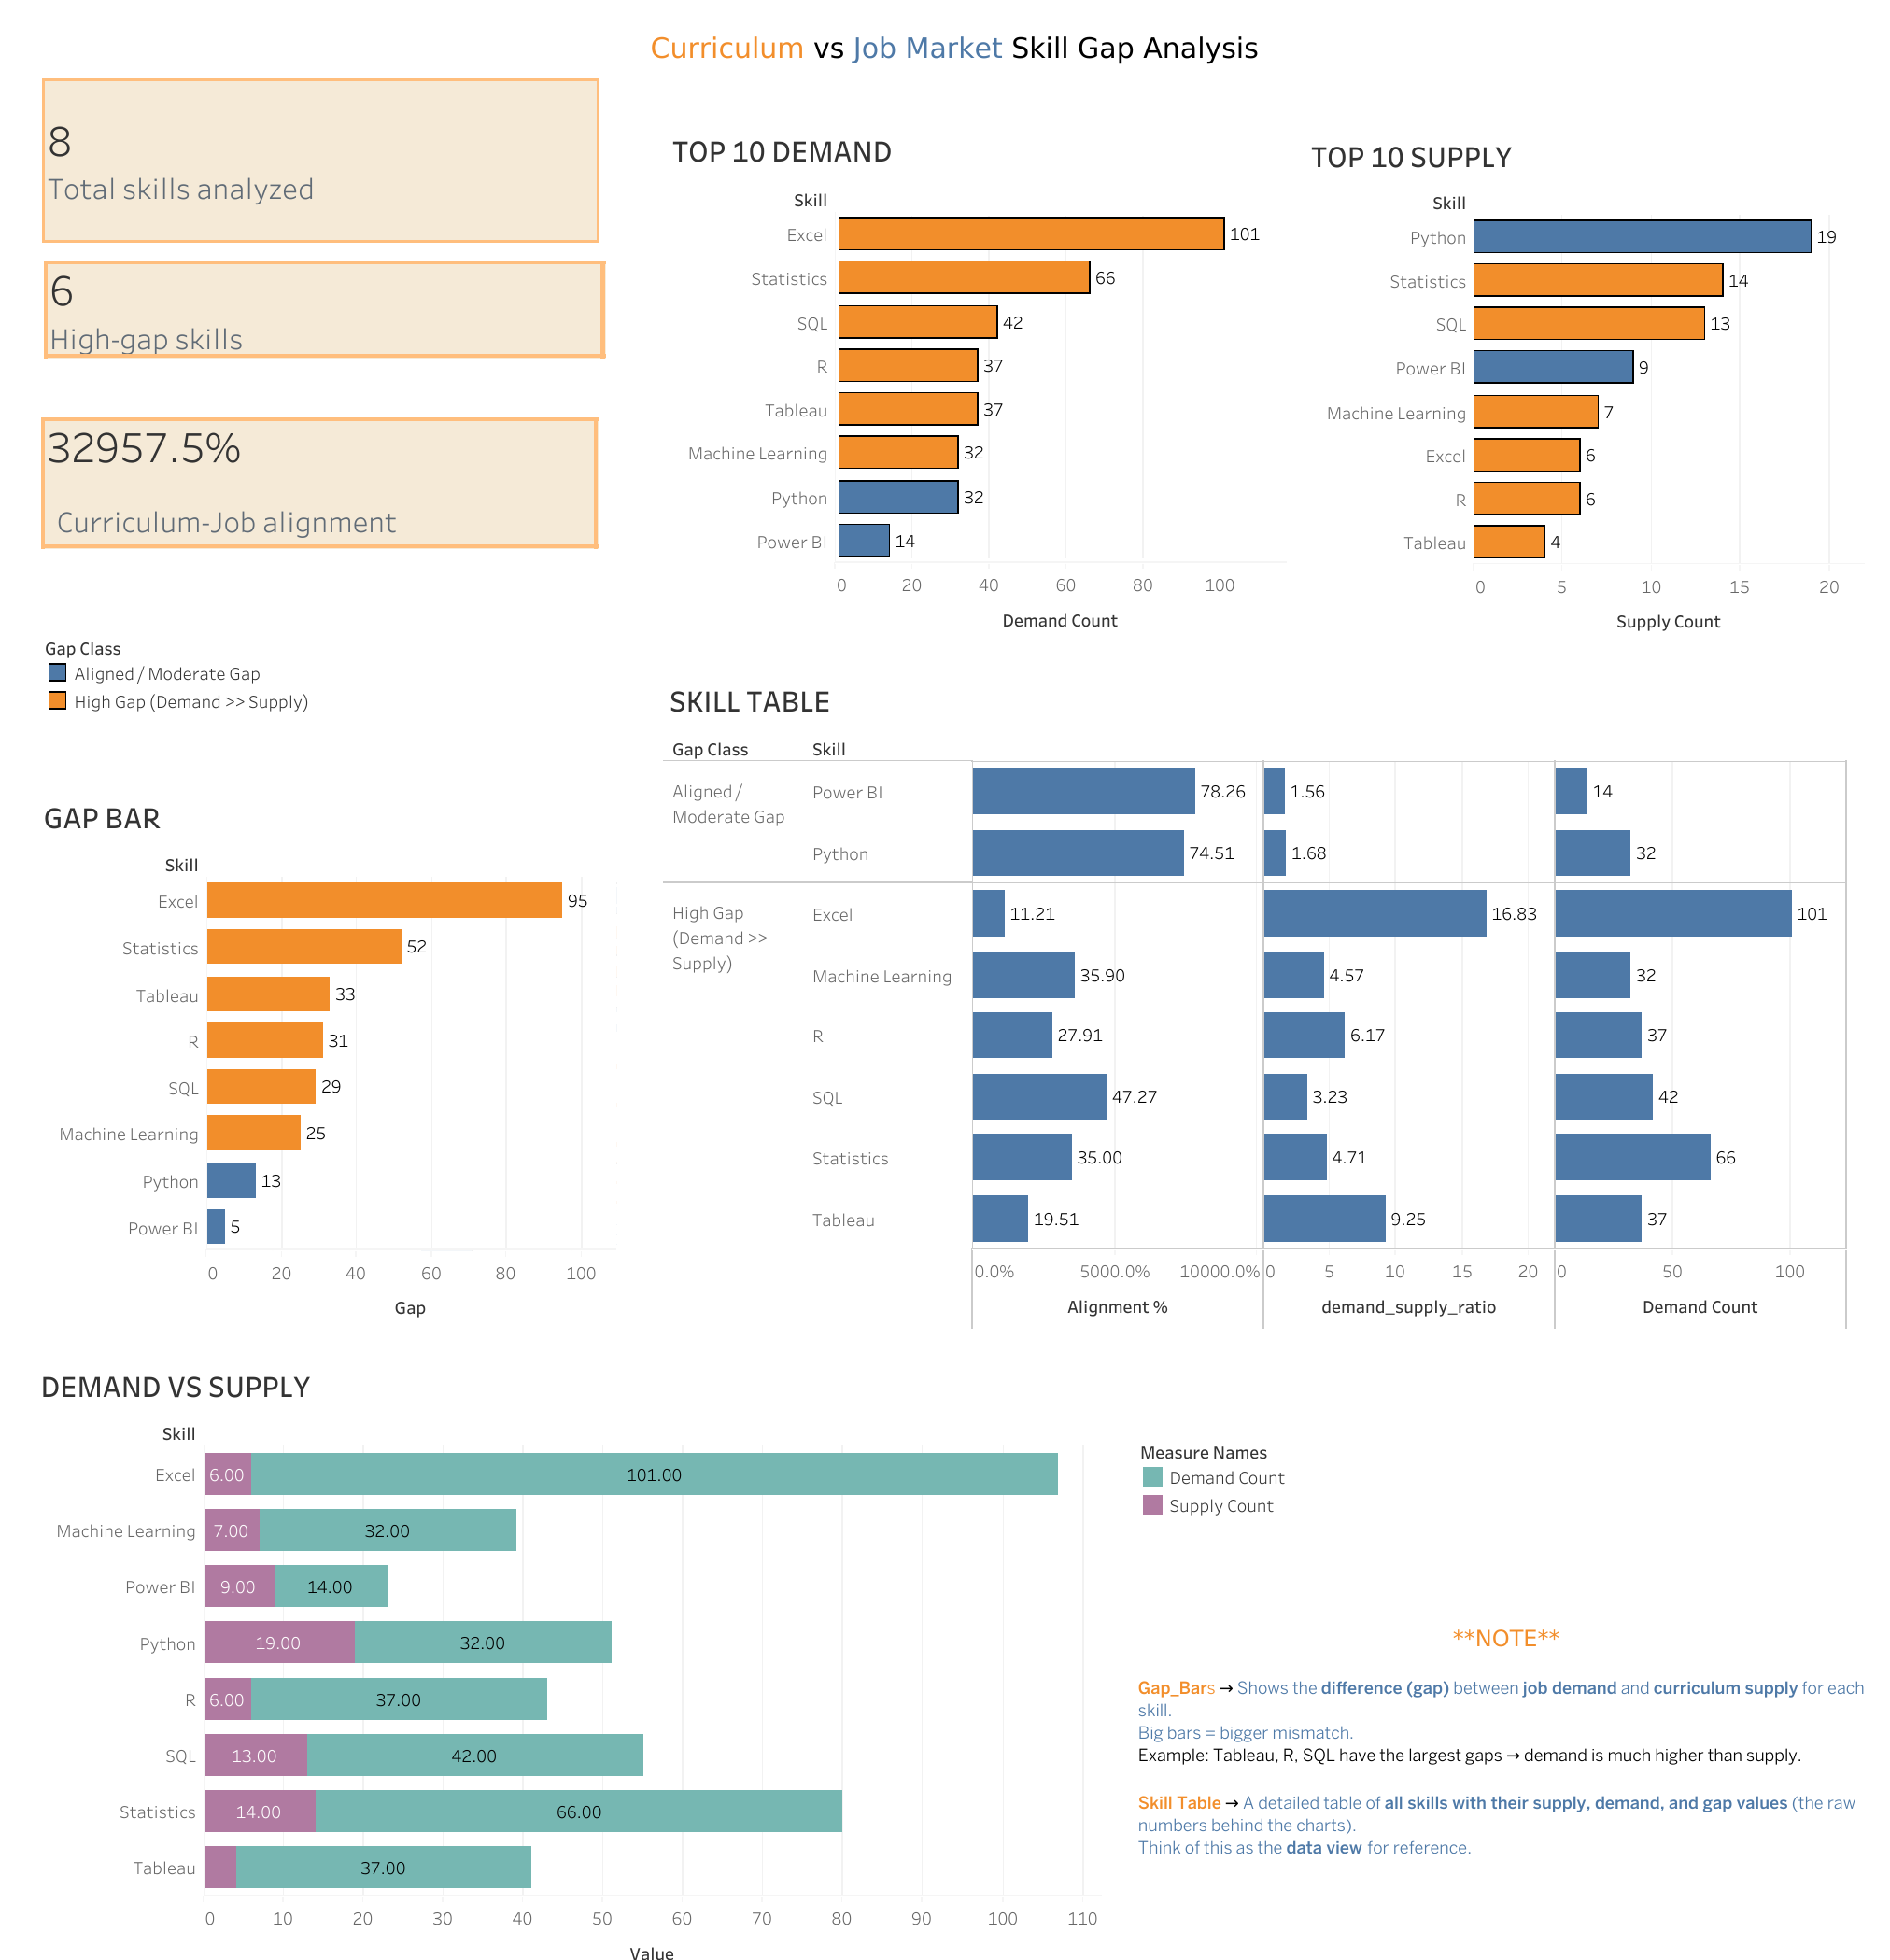

What the dashboard file says about the page in this screenshot:
{"tool":"tableau","page":{"name":"FINAL DASHBOARD","canvas":[1000,1000],"units":"permille","ordinal":0},"visuals":[{"type":"text","box":[10.4,4.3,988.9,40]},{"type":"worksheet","title":"KPI_Total_Skills","mark":"Text","box":[21.5,39.3,295.6,84.3]},{"type":"worksheet","title":"Top10_Demand","mark":"Bar","rows":["skill"],"cols":["demand_count"],"box":[351.9,62.1,329.6,266.4]},{"type":"worksheet","title":"Top10_Supply","mark":"Bar","rows":["skill"],"cols":["supply_count"],"box":[690.4,65,295.6,262.9]},{"type":"worksheet","title":"KPI_HighGap_Count","mark":"Text","box":[22.2,132.1,298.5,76.4]},{"type":"worksheet","title":"KPI_Alignment","mark":"Text","box":[20.7,212.1,296.3,102.9]},{"type":"legend","title":"Top10_Demand","param":"[federated.13pnsvx0suu7gs1a3s3tn1t37jdg].[none:gap_class:nk]","box":[23,322.1,295.6,70.7]},{"type":"worksheet","title":"Skill_Table","mark":"Automatic","rows":["gap_class","skill"],"cols":["Calculation_43065717605449729","Calculation_43065717605531650","demand_count"],"box":[351.1,342.9,625.9,335]},{"type":"worksheet","title":"Gap_Bars","mark":"Automatic","rows":["skill"],"cols":["gap"],"box":[20,402.1,305.2,275.7]},{"type":"legend","title":"Demand_vs_Supply","param":"[federated.13pnsvx0suu7gs1a3s3tn1t37jdg].[:Measure Names]","box":[602.2,732.1,382.2,54.3]}]}

Visuals, with their boxes on the dashboard's canvas, which has no fixed pixel size, in thousandths of its width and height (x1, y1, x2, y2). These are canvas units, not pixel positions in the 1890x1960 screenshot, which may show the page scaled, cropped or inside an application window:
text: [10,4,999,44]
"KPI_Total_Skills" worksheet (Text marks): [22,39,317,124]
"Top10_Demand" worksheet (Bar marks): [352,62,682,328]
"Top10_Supply" worksheet (Bar marks): [690,65,986,328]
"KPI_HighGap_Count" worksheet (Text marks): [22,132,321,208]
"KPI_Alignment" worksheet (Text marks): [21,212,317,315]
"Top10_Demand" legend: [23,322,319,393]
"Skill_Table" worksheet: [351,343,977,678]
"Gap_Bars" worksheet: [20,402,325,678]
"Demand_vs_Supply" legend: [602,732,984,786]
